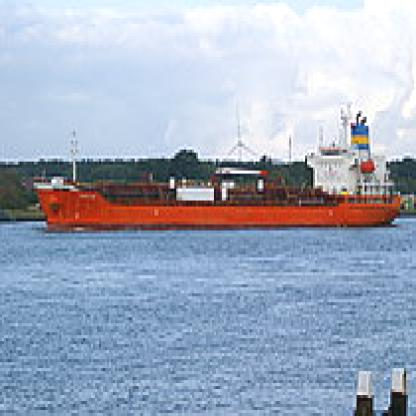Tanker: (34, 111, 406, 230)
